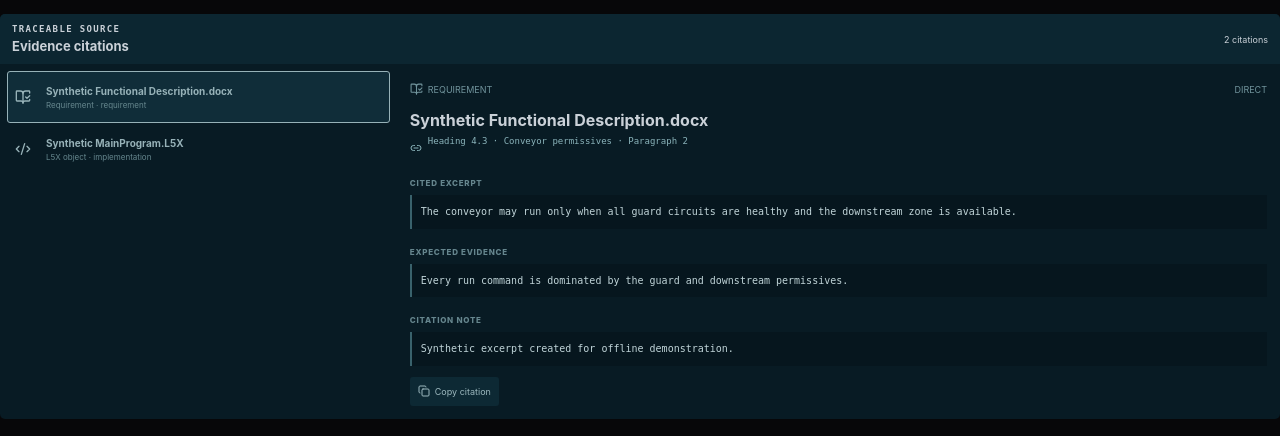
Test: EvidenceViewer › renders an exact L5X location and lets keyboard-equivalent buttons switch citations
Check: the text "Heading 4.3 · Conveyor permissives · Paragraph 2" is shown, box [428, 136, 688, 146]
Click the button "Synthetic MainProgram.L5X L5X object · implementation" at (115, 142), box [7, 123, 390, 175]
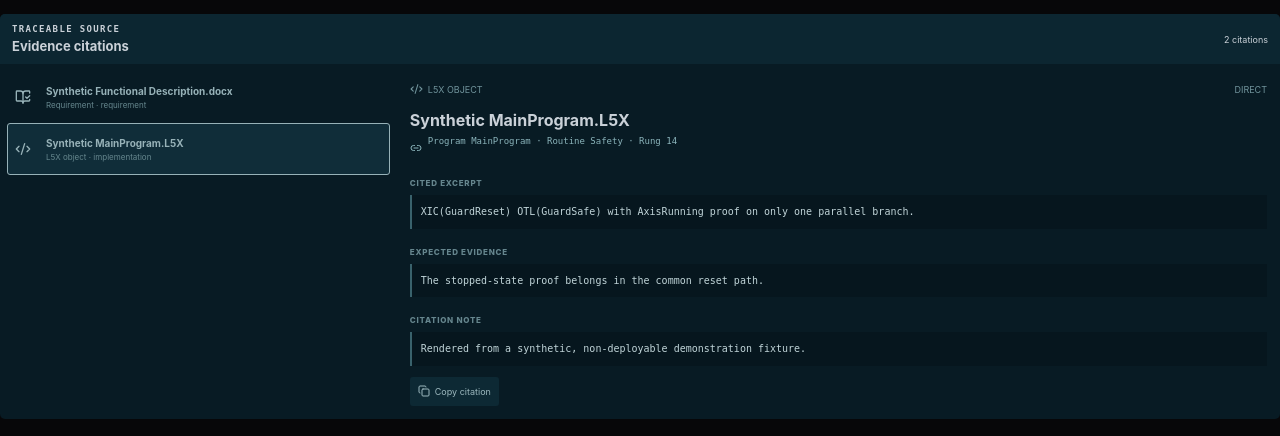
Check: the text "Program MainProgram · Routine Safety · Rung 14" is shown, box [428, 136, 677, 146]
Check: the text "The stopped-state proof belongs in the common reset path." is shown, box [410, 264, 1267, 297]
